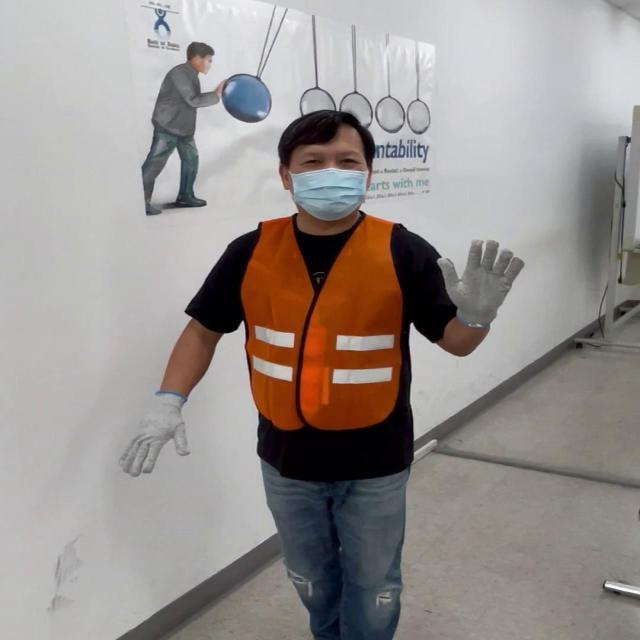gloved_hand: (436, 239, 526, 320), (123, 389, 203, 464)
